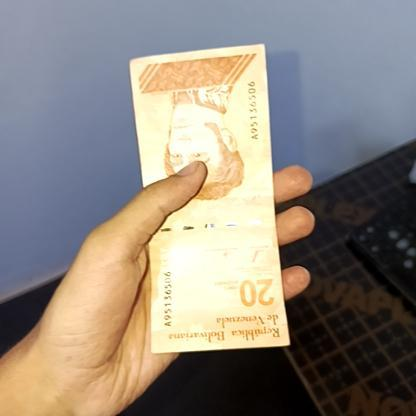twenty-front-vef: (134, 39, 290, 355)
